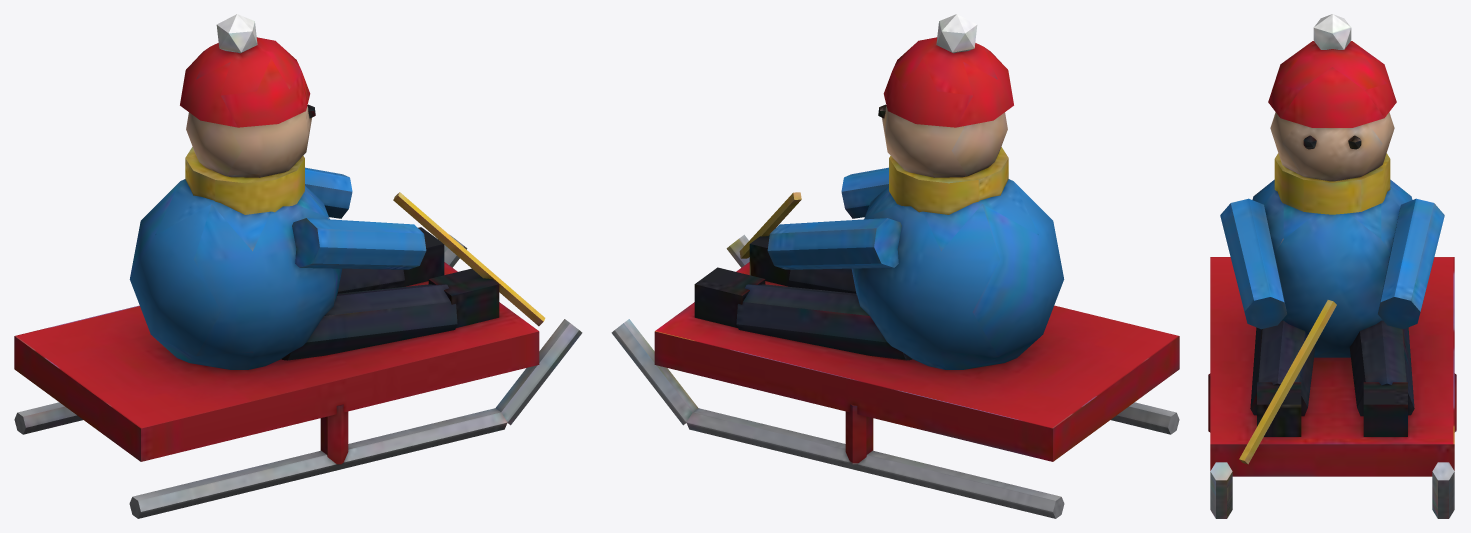
File: trineo.glb
The picture shows the model from 3 angles, left to right: view 1: azimuth 30°, elevation 25°; view 2: azimuth 150°, elevation 25°; view 3: azimuth 270°, elevation 25°; orthographic projection. The views are drawn at different scales.
Parts seen in each view (by area): view 1: trineo; view 2: trineo; view 3: trineo.
Part boxes in pixels (box(x1,y1,x2,y2)): trineo: box(14, 14, 582, 518); trineo: box(611, 14, 1179, 518); trineo: box(1208, 14, 1456, 518).
Bounding box in the file's own units: 1.12 × 1.01 × 0.56.
Materials: 1 (1 with a texture image).
